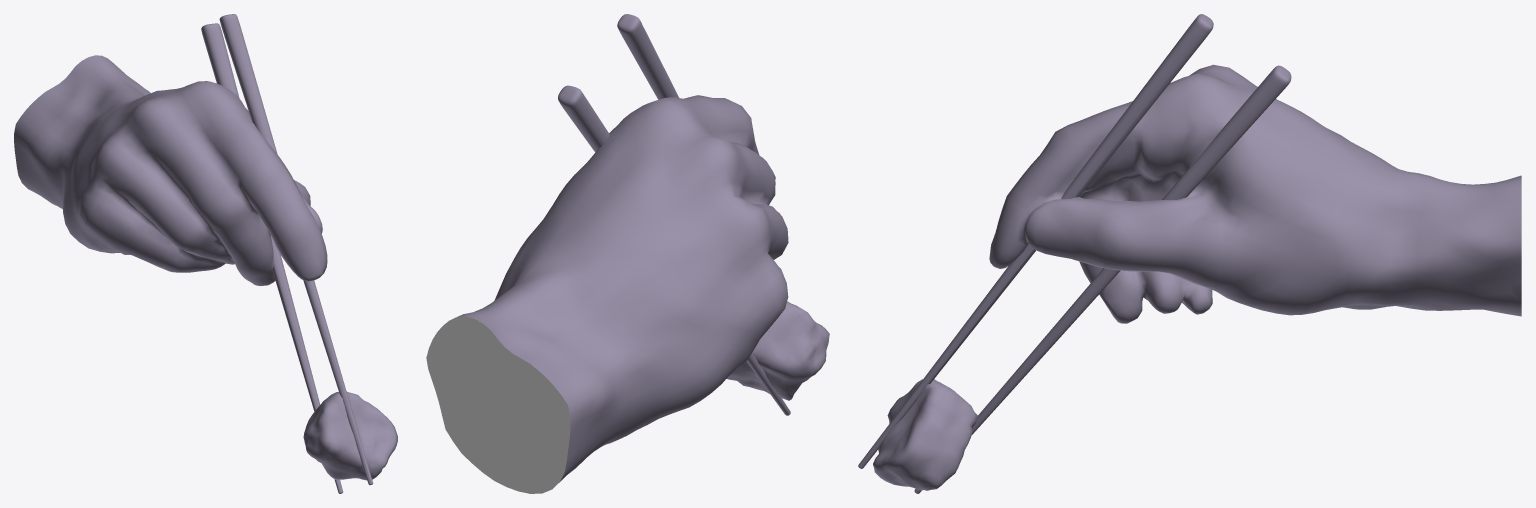
The model's file is 手_20260324183312_opt.glb.
3 renders of one model, left to right at view 1: azimuth 30°, elevation 25°; view 2: azimuth 150°, elevation 25°; view 3: azimuth 270°, elevation 25°, orthographic. The views are drawn at different scales.
Visible parts, largest first — view 1: SkindLowUv, Chopsticks001, SushiToB; view 2: SkindLowUv, SkindLowUv001, SushiToB, Chopsticks001; view 3: SkindLowUv, Chopsticks001, SushiToB.
Boxes of the visible parts, box(x1,y1,x2,y2) form: SkindLowUv: box(14, 55, 327, 285); Chopsticks001: box(201, 14, 373, 493); SushiToB: box(303, 392, 397, 480); SkindLowUv: box(457, 95, 788, 482); SkindLowUv001: box(426, 316, 570, 493); SushiToB: box(726, 301, 829, 400); Chopsticks001: box(558, 14, 790, 415); SkindLowUv: box(989, 64, 1521, 323); Chopsticks001: box(858, 14, 1291, 493); SushiToB: box(873, 379, 977, 490).
Bounding box in the file's own units: 0.142 × 0.2948 × 0.3692.
